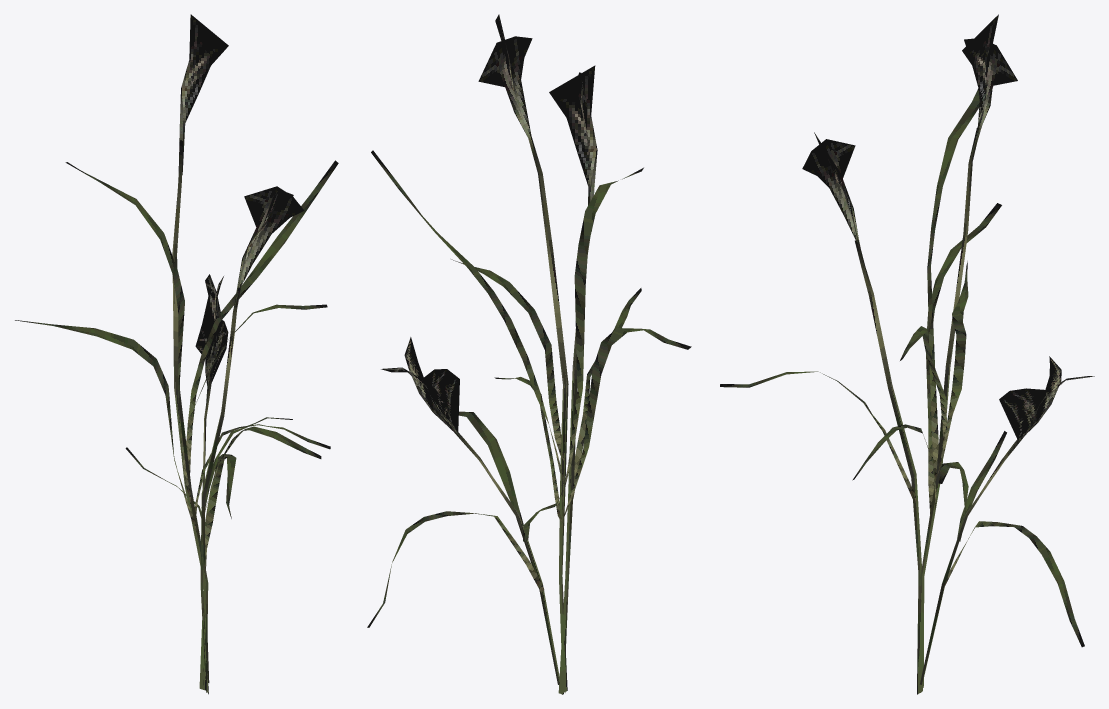
File: natural-reeds-weathered.glb
3 renders of one model, left to right at view 1: azimuth 30°, elevation 25°; view 2: azimuth 150°, elevation 25°; view 3: azimuth 270°, elevation 25°, orthographic. The views are drawn at different scales.
Visible parts, largest first — view 1: natural-reeds-weathered runtime mesh; view 2: natural-reeds-weathered runtime mesh; view 3: natural-reeds-weathered runtime mesh.
Boxes of the visible parts, left/top/right/bottom form: natural-reeds-weathered runtime mesh: left=15, top=14, right=338, bottom=694; natural-reeds-weathered runtime mesh: left=367, top=14, right=691, bottom=694; natural-reeds-weathered runtime mesh: left=720, top=14, right=1094, bottom=694.
Size of the model in its own units: 0.499 by 1 by 0.4915.
Materials: 1 (1 with a texture image).
